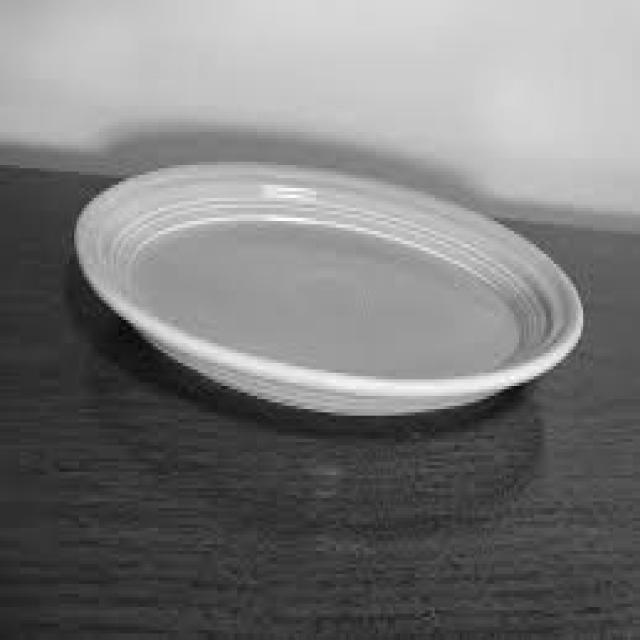dish: (50, 111, 611, 459)
